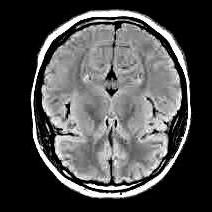Normal_Brain: (2, 1, 212, 212)
